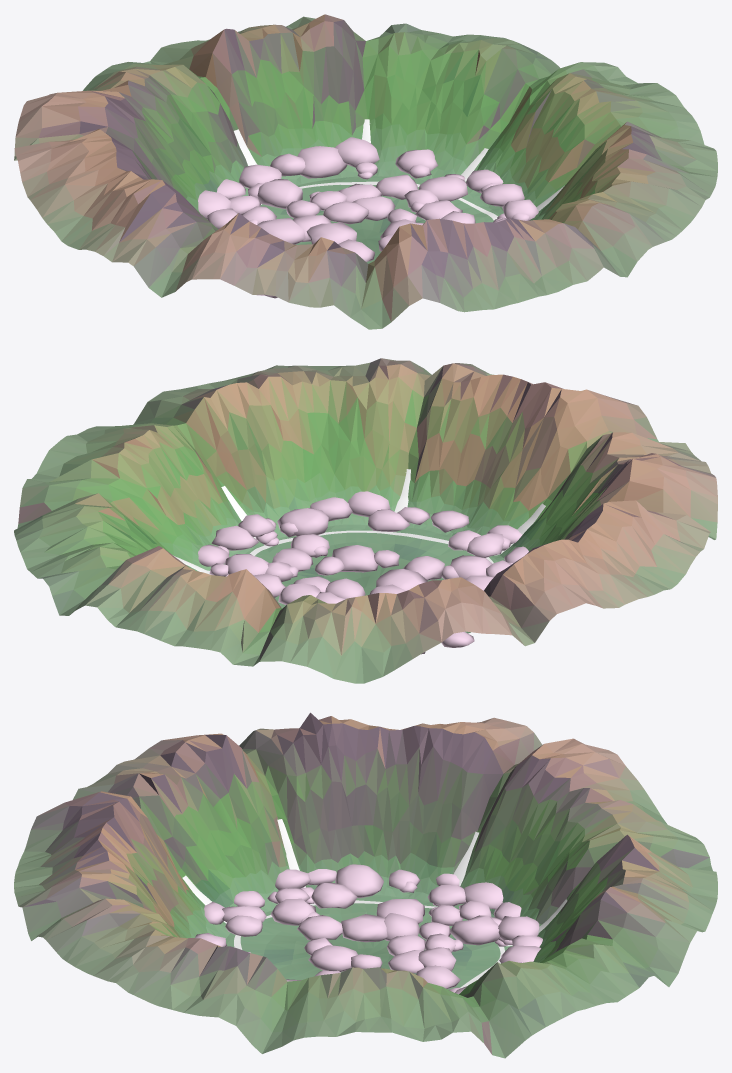
The model's file is zon_shell_far_raw.glb.
The picture shows the model from 3 angles, top to bottom: view 1: azimuth 30°, elevation 25°; view 2: azimuth 150°, elevation 25°; view 3: azimuth 270°, elevation 25°; orthographic projection.
Visible parts, largest first — view 1: SM_shell_far_shell_far_terrain_x0_zm1_LOD0_raw, SM_shell_far_shell_far_terrain_xm1_z0_LOD0_raw, SM_shell_far_shell_far_terrain_xm1_zm1_LOD0_raw, SM_shell_far_shell_far_terrain_x0_z0_LOD0_raw, SM_shell_far_cloud_xm1_zm1_raw, SM_shell_far_far_water_x0_zm1_raw; view 2: SM_shell_far_shell_far_terrain_x0_z0_LOD0_raw, SM_shell_far_shell_far_terrain_xm1_z0_LOD0_raw, SM_shell_far_shell_far_terrain_xm1_zm1_LOD0_raw, SM_shell_far_shell_far_terrain_x0_zm1_LOD0_raw, SM_shell_far_cloud_xm1_zm1_raw, SM_shell_far_far_water_x0_zm1_raw; view 3: SM_shell_far_shell_far_terrain_xm1_z0_LOD0_raw, SM_shell_far_shell_far_terrain_xm1_zm1_LOD0_raw, SM_shell_far_shell_far_terrain_x0_zm1_LOD0_raw, SM_shell_far_shell_far_terrain_x0_z0_LOD0_raw, SM_shell_far_cloud_xm1_zm1_raw, SM_shell_far_far_water_x0_zm1_raw.
Boxes of the visible parts, box(x1,y1,x2,y2) form: SM_shell_far_shell_far_terrain_x0_zm1_LOD0_raw: box(184, 14, 669, 238); SM_shell_far_shell_far_terrain_xm1_z0_LOD0_raw: box(61, 177, 538, 329); SM_shell_far_shell_far_terrain_xm1_zm1_LOD0_raw: box(14, 28, 365, 244); SM_shell_far_shell_far_terrain_x0_z0_LOD0_raw: box(366, 88, 717, 296); SM_shell_far_cloud_xm1_zm1_raw: box(198, 137, 538, 298); SM_shell_far_far_water_x0_zm1_raw: box(234, 119, 564, 220); SM_shell_far_shell_far_terrain_x0_z0_LOD0_raw: box(60, 358, 502, 586); SM_shell_far_shell_far_terrain_xm1_z0_LOD0_raw: box(366, 374, 717, 588); SM_shell_far_shell_far_terrain_xm1_zm1_LOD0_raw: box(193, 527, 670, 683); SM_shell_far_shell_far_terrain_x0_zm1_LOD0_raw: box(14, 435, 365, 648); SM_shell_far_cloud_xm1_zm1_raw: box(198, 491, 528, 654); SM_shell_far_far_water_x0_zm1_raw: box(173, 469, 545, 574); SM_shell_far_shell_far_terrain_xm1_z0_LOD0_raw: box(14, 712, 368, 954); SM_shell_far_shell_far_terrain_xm1_zm1_LOD0_raw: box(364, 717, 717, 956); SM_shell_far_shell_far_terrain_x0_zm1_LOD0_raw: box(363, 848, 717, 1058); SM_shell_far_shell_far_terrain_x0_z0_LOD0_raw: box(14, 840, 367, 1053); SM_shell_far_cloud_xm1_zm1_raw: box(195, 864, 542, 994); SM_shell_far_far_water_x0_zm1_raw: box(182, 819, 567, 988).
Bounding box in the file's own units: 728 × 145 × 728.
